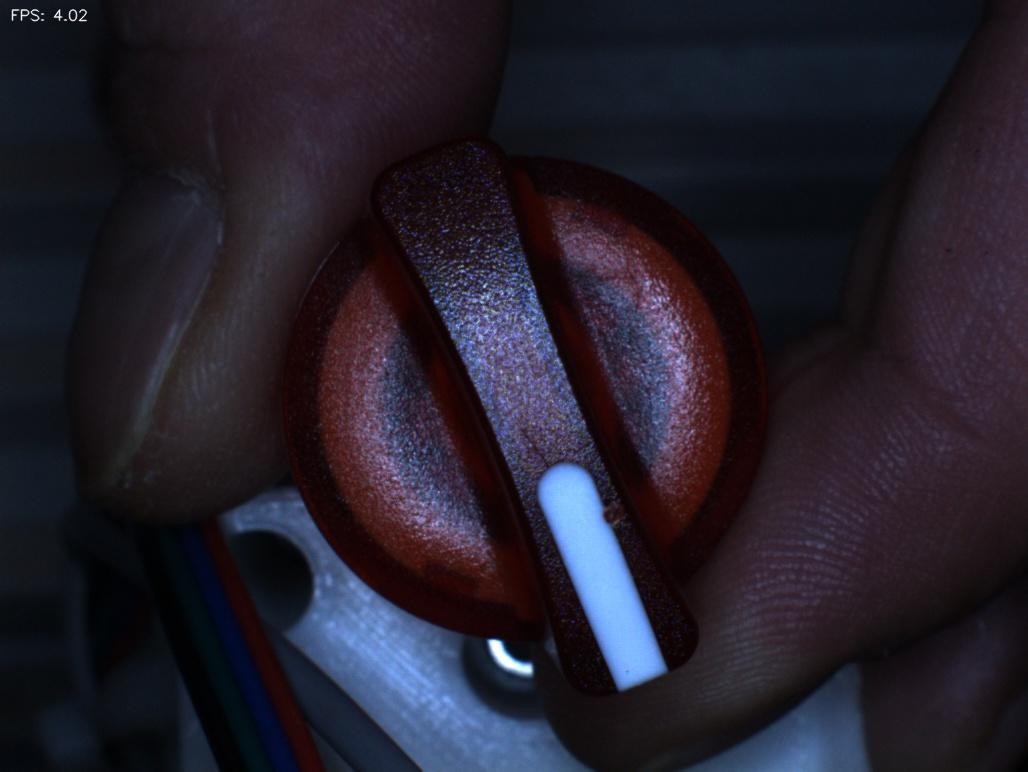Choc: (568, 479, 652, 557)
